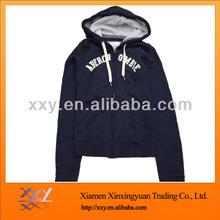C_jacket: (51, 4, 188, 182)
